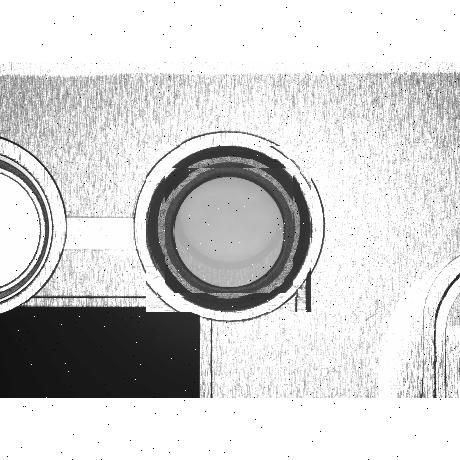Hole: (146, 146, 312, 312)
Hole2: (158, 158, 300, 298)
Hole3: (165, 166, 293, 294)
Hole4: (174, 176, 284, 286)
